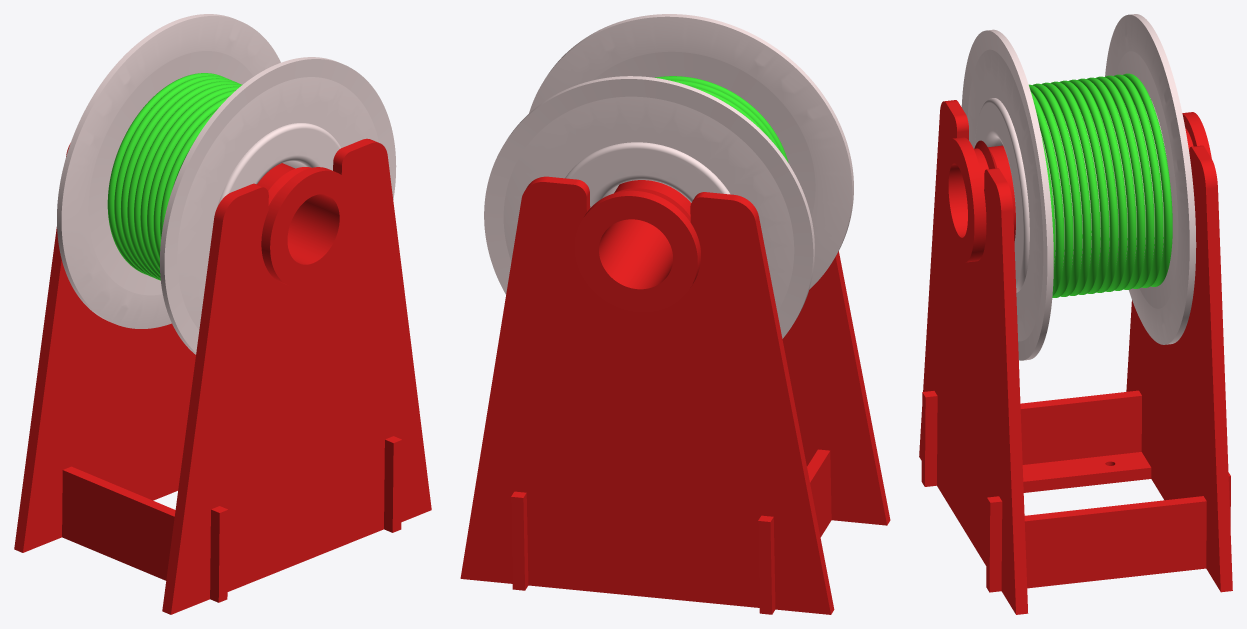
The model's file is bobina.glb.
3 renders of one model, left to right at view 1: azimuth 30°, elevation 25°; view 2: azimuth 150°, elevation 25°; view 3: azimuth 270°, elevation 25°, orthographic. The views are drawn at different scales.
Visible parts, largest first — view 1: Object_2, Object_8, Object_4, Object_3, Object_5, Object_6, Object_7; view 2: Object_4, Object_8, Object_2, Object_9, Object_5, Object_3, Object_7; view 3: Object_2, Object_8, Object_3, Object_4, Object_6, Object_7, Object_5.
Boxes of the visible parts, x1,y1,x2,y2 form: Object_2: [162, 138, 431, 614]; Object_8: [57, 14, 396, 354]; Object_4: [14, 143, 195, 552]; Object_3: [62, 436, 402, 602]; Object_5: [257, 163, 356, 288]; Object_6: [107, 73, 242, 280]; Object_7: [147, 94, 229, 269]; Object_4: [460, 176, 834, 614]; Object_8: [484, 14, 853, 338]; Object_2: [782, 251, 890, 525]; Object_9: [523, 113, 777, 282]; Object_5: [574, 180, 700, 312]; Object_3: [511, 449, 831, 614]; Object_7: [655, 76, 788, 162]; Object_2: [919, 100, 1028, 614]; Object_8: [961, 14, 1196, 360]; Object_3: [921, 390, 1230, 592]; Object_4: [1126, 145, 1232, 592]; Object_6: [1032, 73, 1172, 296]; Object_7: [1029, 79, 1118, 297]; Object_5: [942, 112, 1211, 262].
Bounding box in the file's own units: 84.1 × 109 × 62.91.
